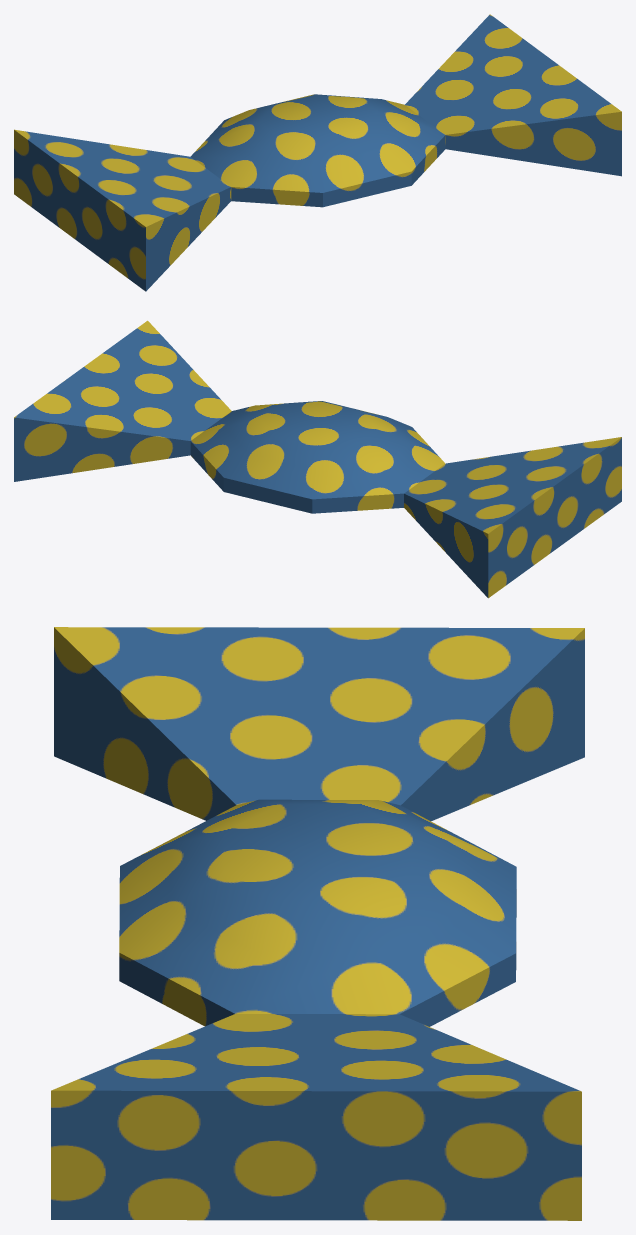
Rendered from bow_tie.fbx.
3 views of the same model, one above another, from view 1: azimuth 30°, elevation 25°; view 2: azimuth 150°, elevation 25°; view 3: azimuth 270°, elevation 25° (orthographic). The views are drawn at different scales.
Visible parts, largest first — view 1: pCylinder2; view 2: pCylinder2; view 3: pCylinder2.
Part boxes in pixels (x1,y1,x2,y2): pCylinder2: (14, 14, 621, 291); pCylinder2: (14, 320, 621, 598); pCylinder2: (51, 627, 584, 1220).
Bounding box in the file's own units: 0.3071 × 0.0419 × 0.1492.
Materials: 1 (1 with a texture image).
